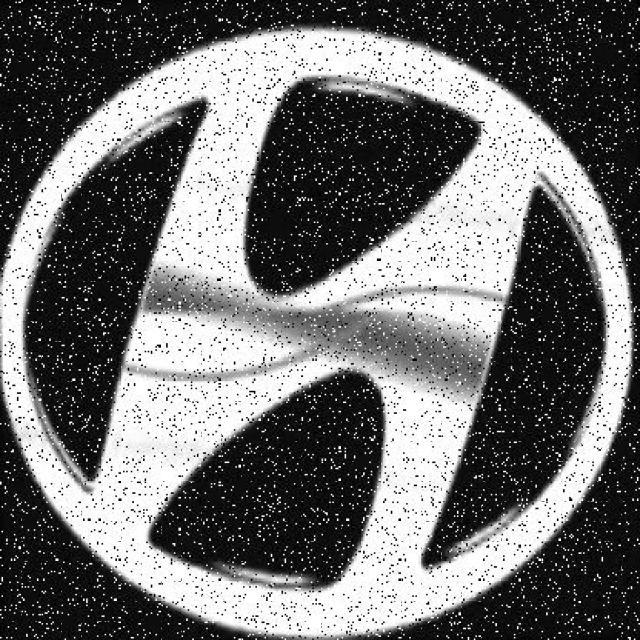Hyundai: (0, 10, 638, 638)
